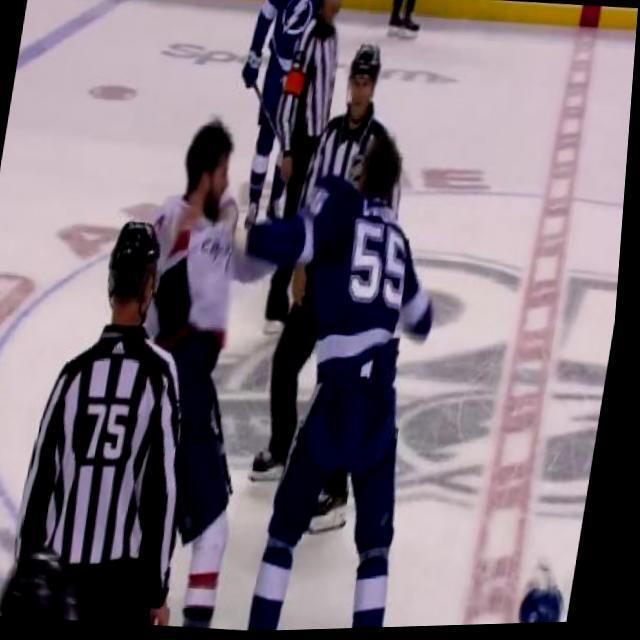fight: (96, 106, 472, 637)
